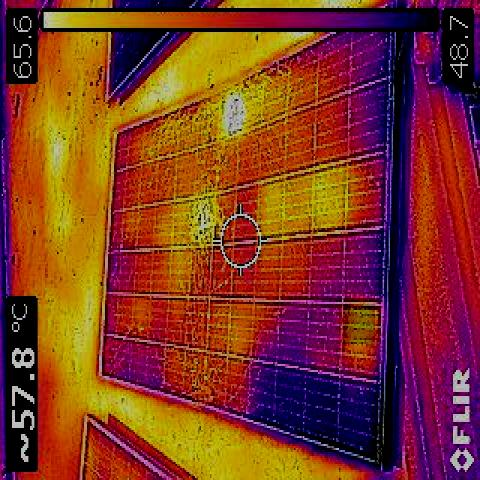fault: (343, 304, 375, 344), (220, 94, 243, 134)
